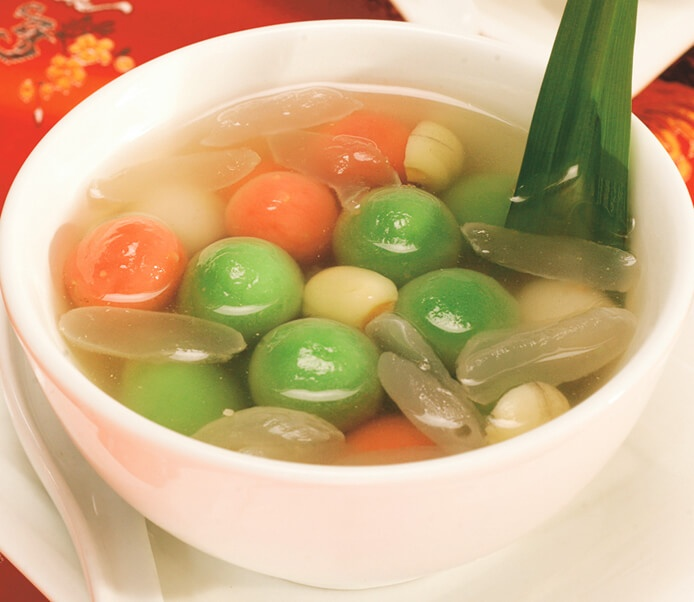ronde: (54, 84, 650, 465)
